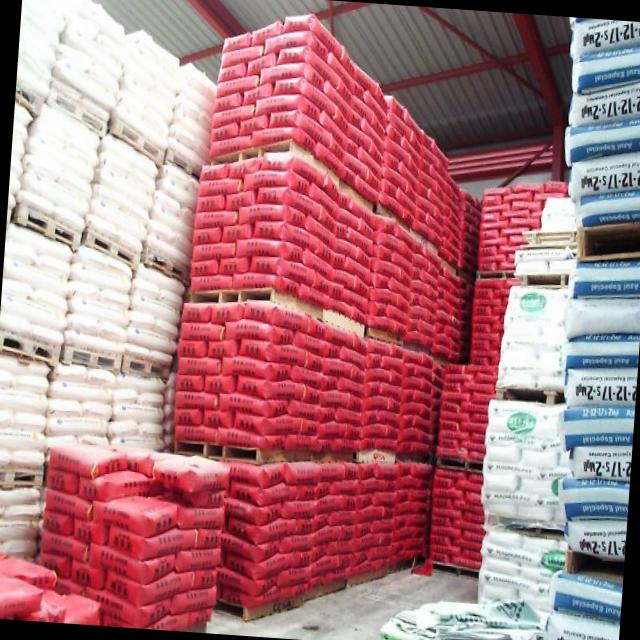ceiling beam: (62, 0, 571, 147)
empty sacks: (379, 601, 545, 640)
floor -X: (190, 567, 478, 640)
pallet: (9, 201, 81, 249), (110, 112, 165, 167), (45, 87, 105, 134), (80, 226, 141, 270), (577, 219, 640, 259), (483, 511, 563, 542), (0, 330, 56, 367), (564, 547, 622, 582), (58, 342, 122, 373), (141, 251, 189, 284), (493, 383, 564, 404), (119, 352, 170, 380), (162, 145, 199, 181), (427, 556, 478, 580), (16, 77, 44, 119), (520, 230, 576, 250), (0, 465, 43, 488), (435, 456, 483, 473), (514, 273, 568, 288), (475, 268, 514, 279)
pallets: (211, 136, 475, 281), (188, 287, 450, 366), (215, 555, 425, 619), (173, 438, 434, 464)
sacks: (208, 13, 481, 276), (188, 158, 474, 362), (172, 304, 444, 458), (33, 439, 229, 629), (17, 0, 217, 169), (8, 98, 201, 268), (215, 462, 433, 604), (0, 222, 186, 359), (560, 257, 640, 557), (0, 354, 176, 469), (565, 17, 640, 226), (436, 279, 515, 460), (480, 401, 569, 520), (476, 529, 564, 619), (478, 184, 568, 271), (0, 553, 101, 624), (496, 287, 569, 385), (544, 571, 619, 640), (430, 470, 483, 566), (0, 486, 45, 562), (514, 247, 576, 272), (541, 197, 577, 231)
wall clock: (445, 139, 570, 200)
